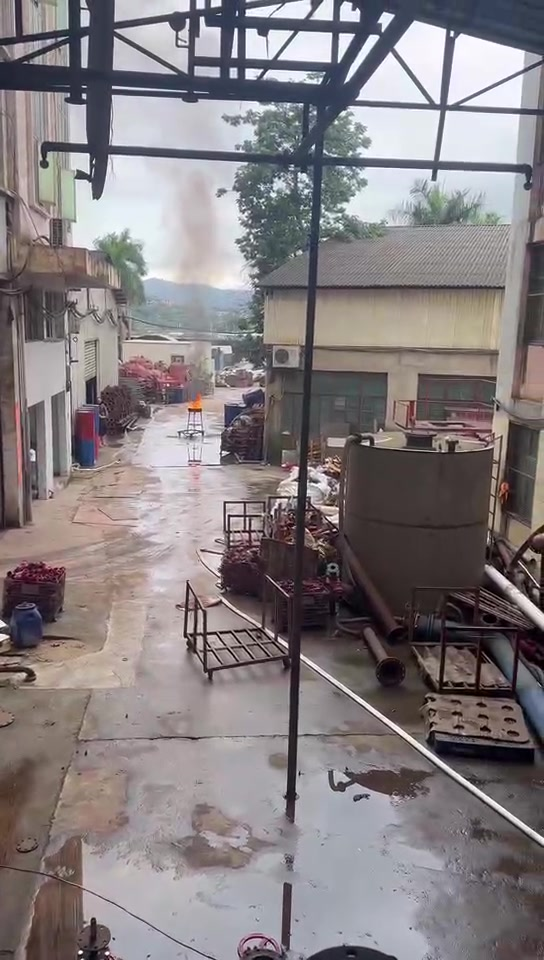fire: (188, 394, 201, 408)
